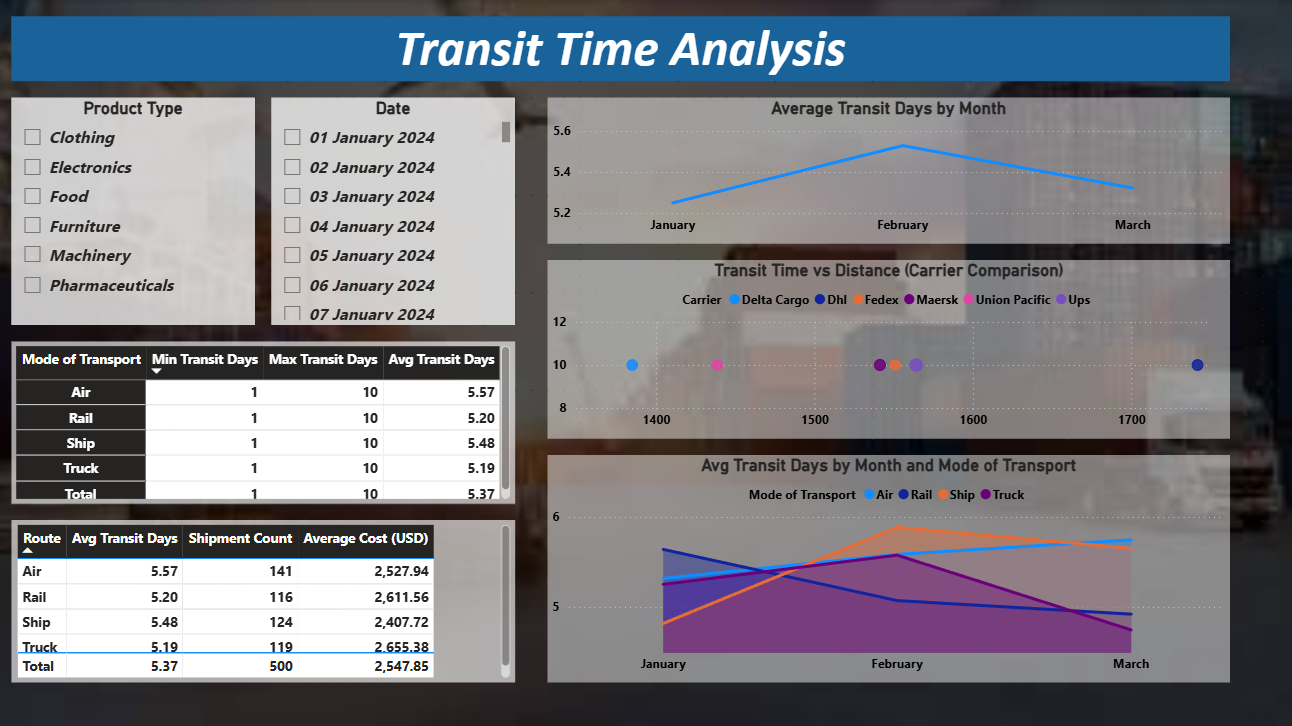

Layout of this report page (visuals, bound fields, positions):
{"tool":"powerbi","page":{"name":"Transit Time","canvas":[1280,720],"ordinal":2},"visuals":[{"type":"shape","title":"Transit Time Analysis","box":[16,16,1200,64],"z":0},{"type":"lineChart","title":"Average Transit Days by Month","fields":{"Y":["Shipment.Avg Transit Days"],"Category":["Shipment.Date.Variation.Date Hierarchy.Month"]},"box":[544,96,672,144],"z":1000},{"type":"areaChart","fields":{"Category":["Shipment.Date.Variation.Date Hierarchy.Month"],"Y":["Shipment.Avg Transit Days"],"Series":["Shipment.Mode of Transport"]},"box":[544,448,672,224],"z":2000},{"type":"pivotTable","fields":{"Rows":["DimMode.Mode of Transport"],"Values":["Shipment.Min Transit Days","Shipment.Max Transit Days","Shipment.Avg Transit Days"]},"box":[16,336,496,160],"z":3000},{"type":"tableEx","fields":{"Values":["Shipment.Mode of Transport","Shipment.Avg Transit Days","Shipment.Shipment Count","Shipment.Avg Cost"]},"box":[16,512,496,160],"z":4000},{"type":"scatterChart","title":"Transit Time vs Distance (Carrier Comparison)","fields":{"Y":["Count(Shipment.Transit Time (days))"],"X":["Avg(Shipment.Distance (km))"],"Series":["Shipment.Carrier"],"Size":["Sum(Shipment.Weight (kg))"]},"box":[544,256,672,176],"z":5000},{"type":"slicer","title":"Date","fields":{"Values":["Shipment.Date"]},"box":[272,96,240,224],"z":6000},{"type":"slicer","title":"Product Type","fields":{"Values":["Shipment.Product Type"]},"box":[16,96,240,224],"z":7000}]}

Visuals, with their boxes in screenshot pixels (x1, y1, x2, y2), scaled from the page's 1280x720 canvas onto the 1292x726 screenshot:
"Transit Time Analysis" shape: <bbox>16, 16, 1227, 81</bbox>
"Average Transit Days by Month" lineChart: <bbox>549, 97, 1227, 242</bbox>
areaChart - Shipment.Date.Variation.Date Hierarchy.Month x Shipment.Avg Transit Days: <bbox>549, 452, 1227, 678</bbox>
pivotTable - DimMode.Mode of Transport x Shipment.Min Transit Days: <bbox>16, 339, 517, 500</bbox>
tableEx - Shipment.Mode of Transport x Shipment.Avg Transit Days: <bbox>16, 516, 517, 678</bbox>
"Transit Time vs Distance (Carrier Comparison)" scatterChart: <bbox>549, 258, 1227, 436</bbox>
"Date" slicer: <bbox>275, 97, 517, 323</bbox>
"Product Type" slicer: <bbox>16, 97, 258, 323</bbox>
